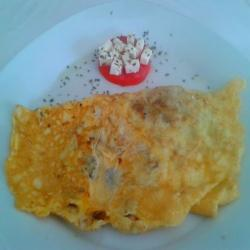omelette: (11, 84, 242, 233)
